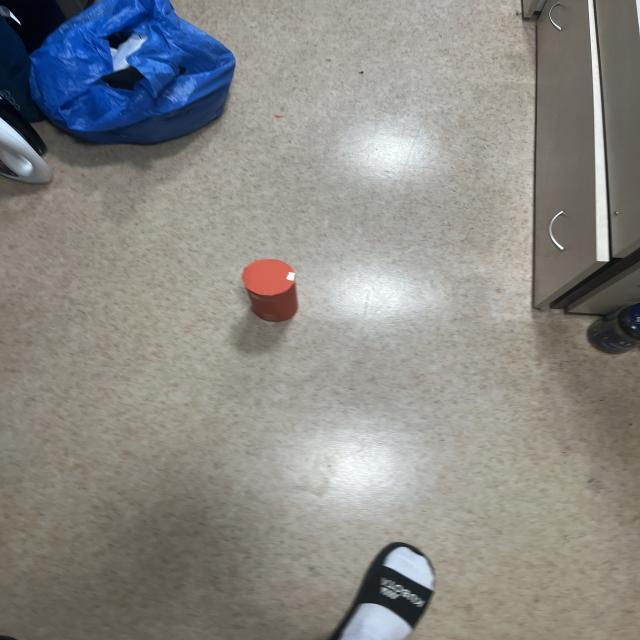przeszkoda: (242, 259, 298, 322)
